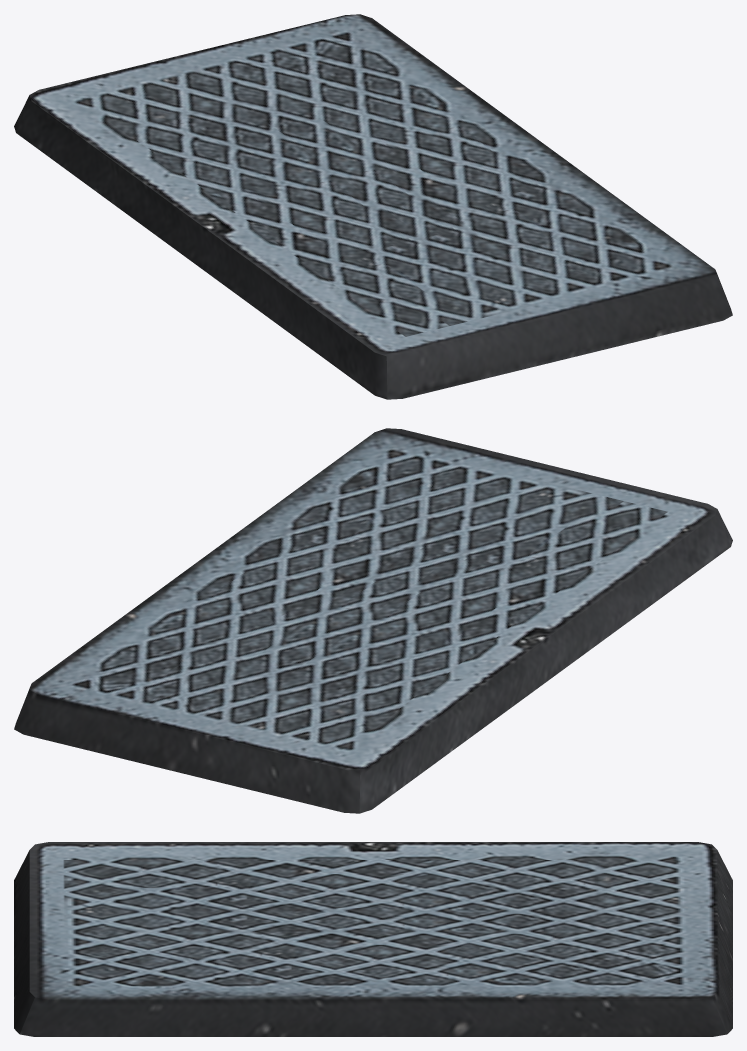
The model's file is Ground_UtilityHole_C.fbx.
3 views of the same model, one above another, from view 1: azimuth 30°, elevation 25°; view 2: azimuth 150°, elevation 25°; view 3: azimuth 270°, elevation 25° (orthographic). The views are drawn at different scales.
Parts seen in each view (by area): view 1: Ground_UtilityHole_C; view 2: Ground_UtilityHole_C; view 3: Ground_UtilityHole_C.
Part boxes in pixels (x1=…): Ground_UtilityHole_C: x1=14, y1=14, x2=732, y2=399; Ground_UtilityHole_C: x1=14, y1=428, x2=732, y2=813; Ground_UtilityHole_C: x1=14, y1=842, x2=732, y2=1036.
Size of the model in its own units: 15.73 by 1.5 by 29.03.
1 material, 1 textured.
